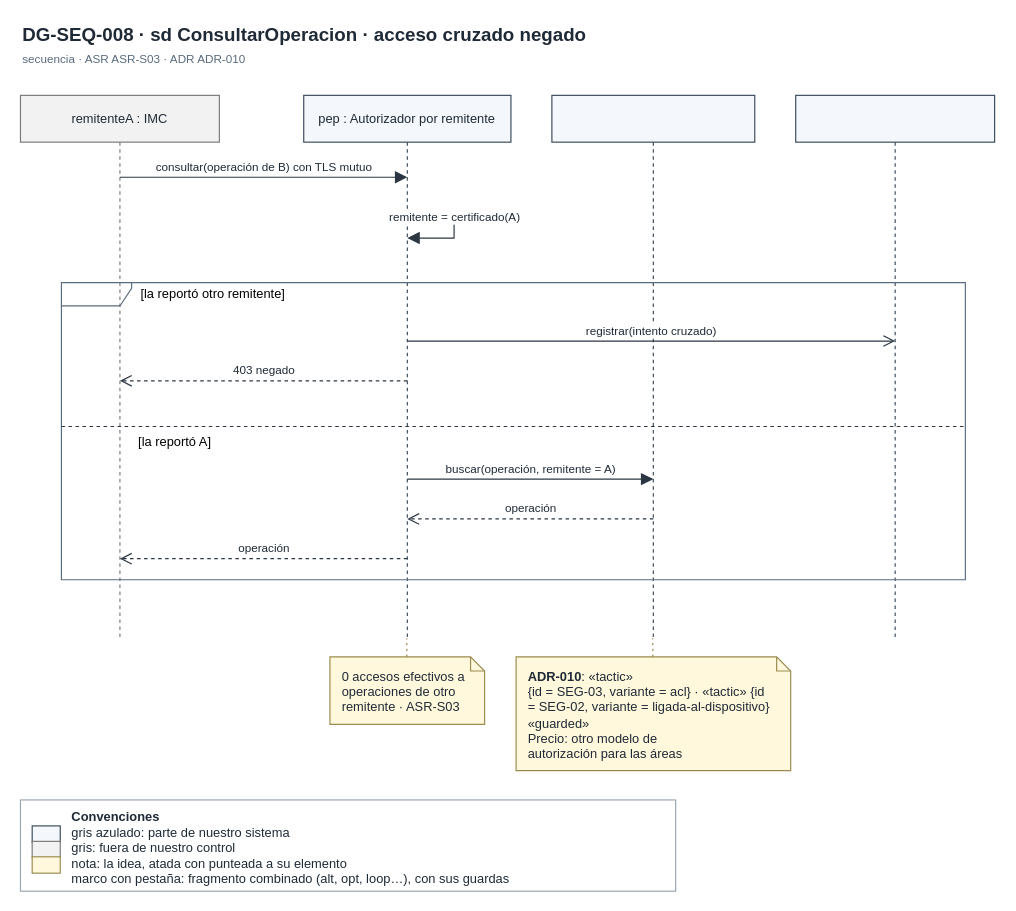
Image size: 1016x911. Some labels were removed from this diagram. Here are the shapes that lost their labels. From the top down, the box of each, then its label:
(551, 94, 755, 638): : Repositorio de declaraciones
(795, 94, 995, 638): : Auditoría inmutable
(60, 281, 965, 580): alt
